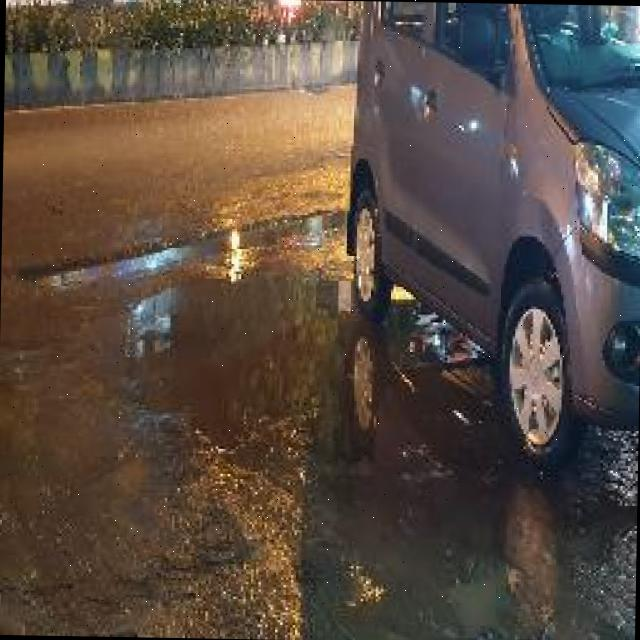stagnation: (65, 213, 487, 492)
